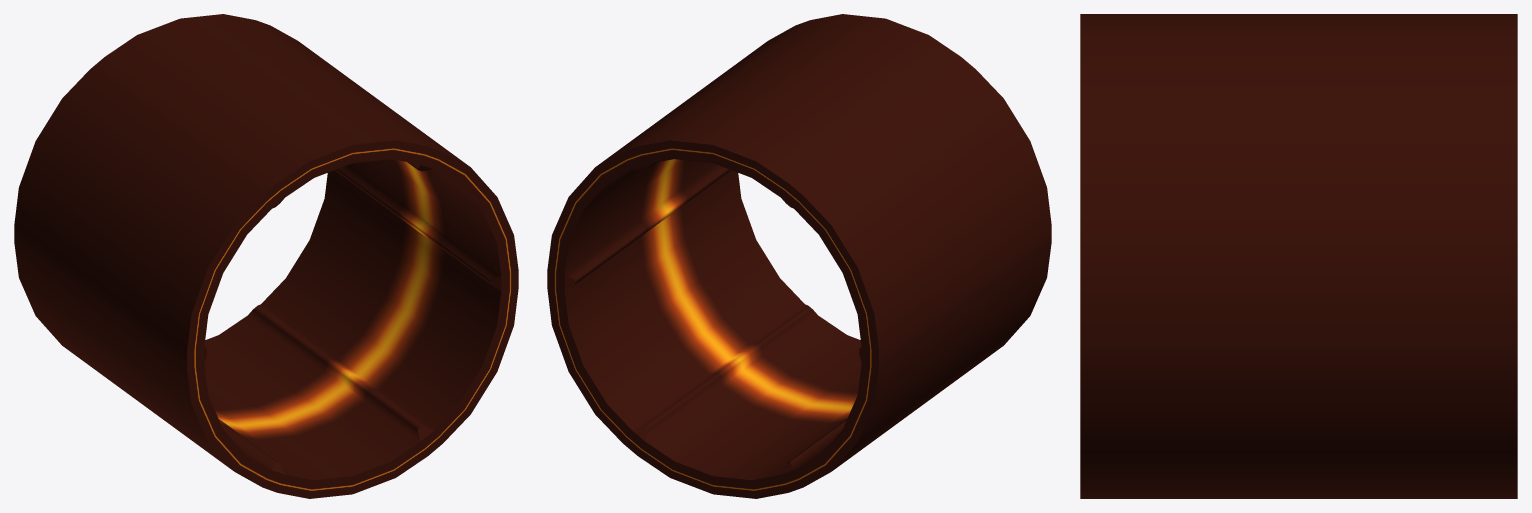
The model's file is tuboNEON.fbx.
3 renders of one model, left to right at view 1: azimuth 30°, elevation 25°; view 2: azimuth 150°, elevation 25°; view 3: azimuth 270°, elevation 25°, orthographic. The views are drawn at different scales.
Visible parts, largest first — view 1: pCylinder3; view 2: pCylinder3; view 3: pCylinder3.
Boxes of the visible parts, x1=… form: pCylinder3: x1=14, y1=14, x2=518, y2=498; pCylinder3: x1=547, y1=14, x2=1051, y2=498; pCylinder3: x1=1080, y1=14, x2=1517, y2=498.
Size of the model in its own units: 7.59 by 7.64 by 6.84.
